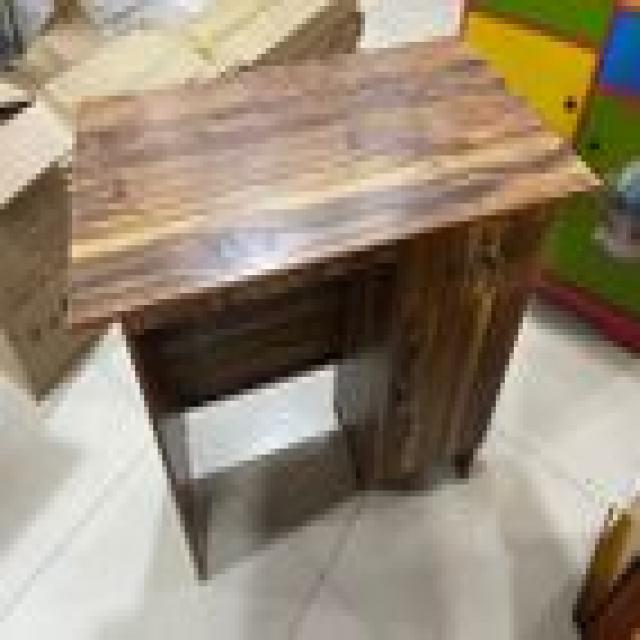others: (72, 6, 595, 574)
